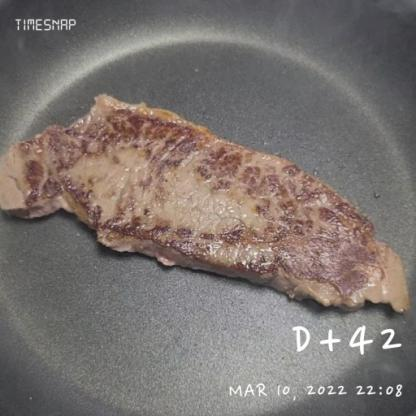Carne: (0, 97, 415, 313)
